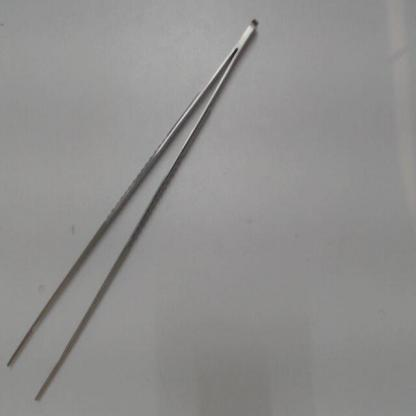DeBakey Dissector: (4, 9, 276, 401)
